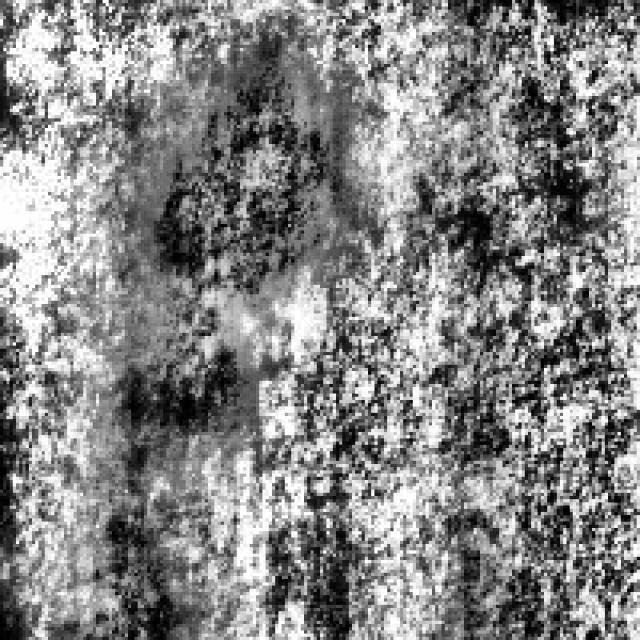Scratches: (134, 29, 336, 308), (99, 288, 256, 470), (70, 496, 196, 630)
